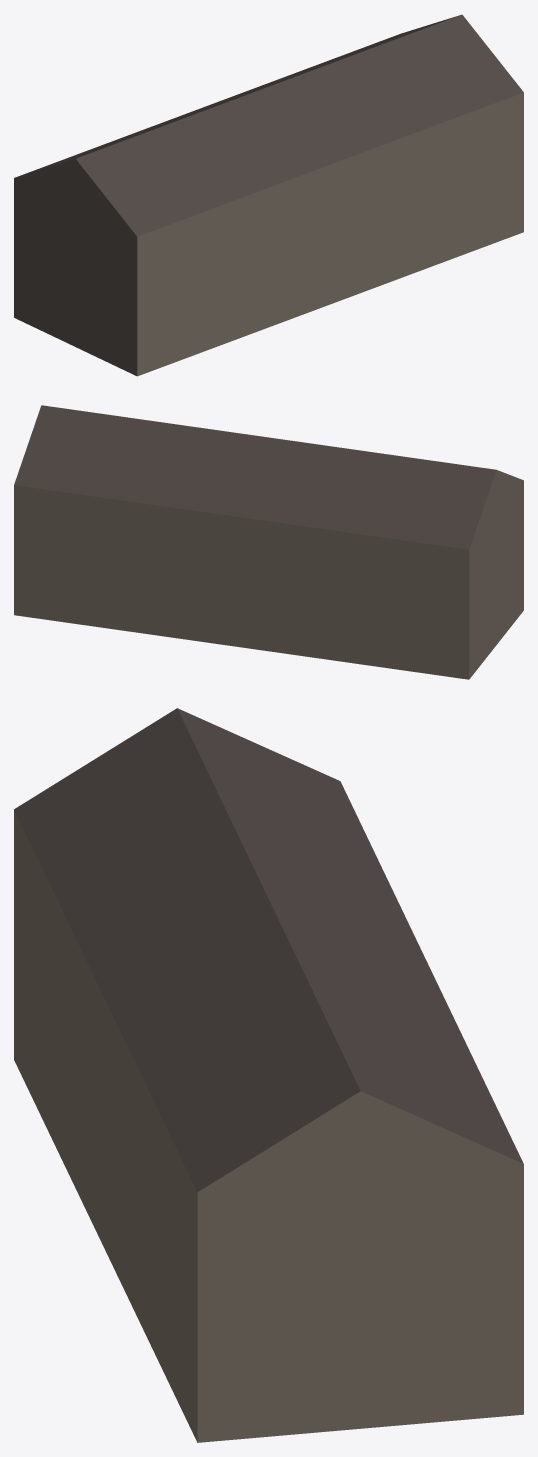
3 renders of one model, top to bottom at view 1: azimuth 30°, elevation 25°; view 2: azimuth 150°, elevation 25°; view 3: azimuth 270°, elevation 25°, orthographic. The views are drawn at different scales.
Visible parts, largest first — view 1: HP-w859424241; view 2: HP-w859424241; view 3: HP-w859424241.
Boxes of the visible parts, x1,y1,x2,y2 form: HP-w859424241: [14, 14, 523, 376]; HP-w859424241: [14, 405, 523, 679]; HP-w859424241: [14, 708, 523, 1442].
Size of the model in its own units: 31.69 by 12.13 by 16.61.
